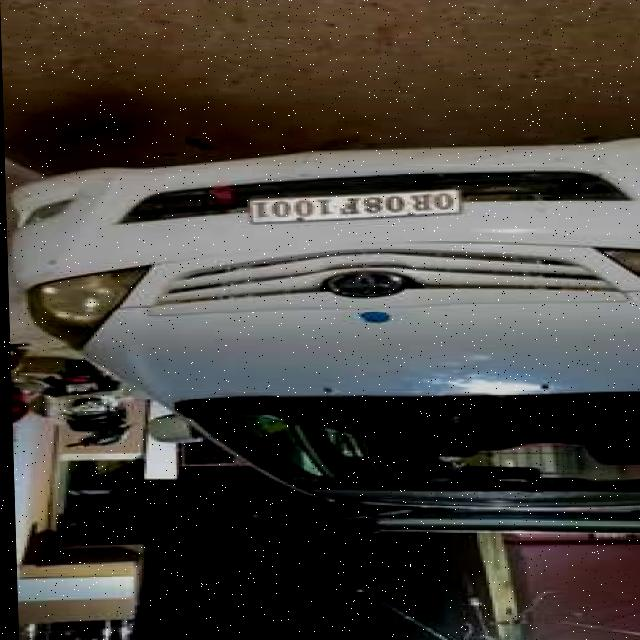plate: (239, 186, 463, 225)
